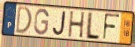D: (15, 5, 33, 35)
F: (102, 13, 121, 42)
G: (33, 8, 50, 36)
H: (68, 11, 86, 40)
J: (52, 11, 67, 37)
L: (84, 12, 101, 42)
